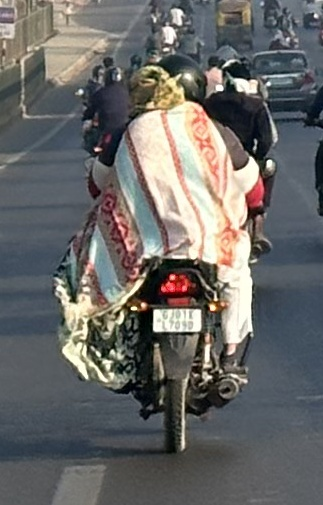Helmet: (153, 52, 212, 113)
NoHelmet: (46, 53, 298, 455), (125, 62, 181, 116), (217, 57, 259, 99)
